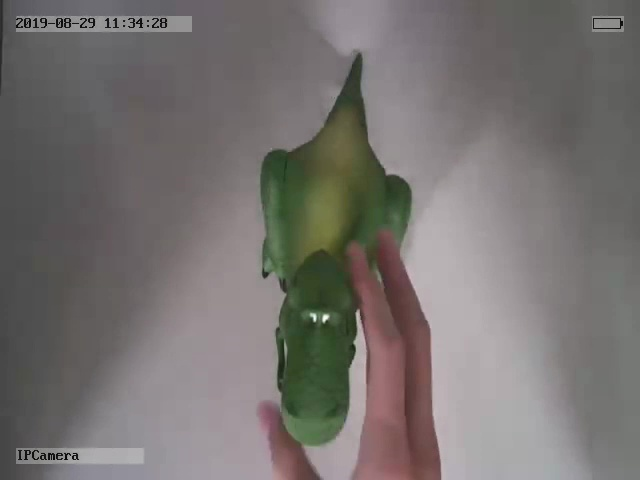rex: (257, 50, 416, 450)
